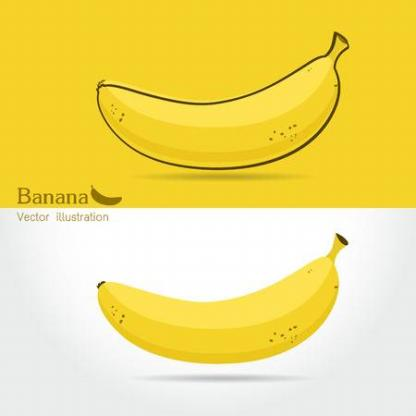banana: (92, 58, 352, 175), (87, 258, 350, 373)
